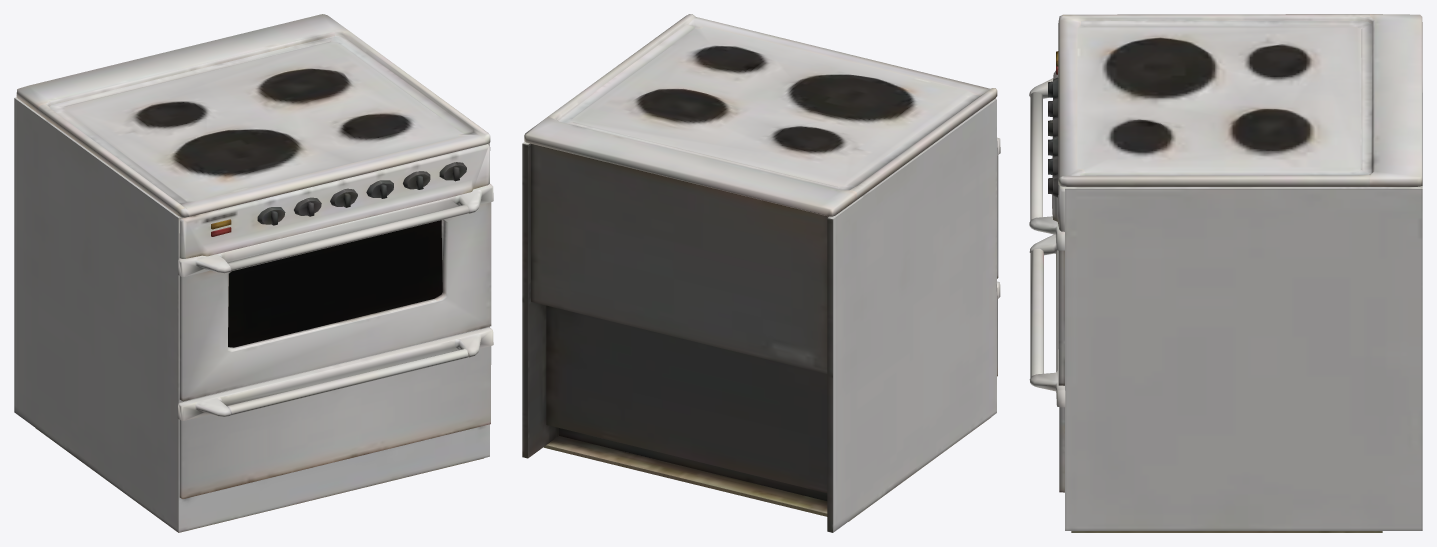
Rendered from ph-electric-stove.glb.
The picture shows the model from 3 angles, left to right: view 1: azimuth 30°, elevation 25°; view 2: azimuth 150°, elevation 25°; view 3: azimuth 270°, elevation 25°; orthographic projection. The views are drawn at different scales.
Parts seen in each view (by area): view 1: stovetop, door_top; view 2: stovetop; view 3: stovetop.
Boxes of the visible parts, x1,y1,x2,y2 form: stovetop: (14,14,493,532); door_top: (228,220,442,347); stovetop: (522,14,1000,532); stovetop: (1029,14,1422,532).
Size of the model in its own units: 1 by 0.9998 by 1.
2 materials, 2 textured.
